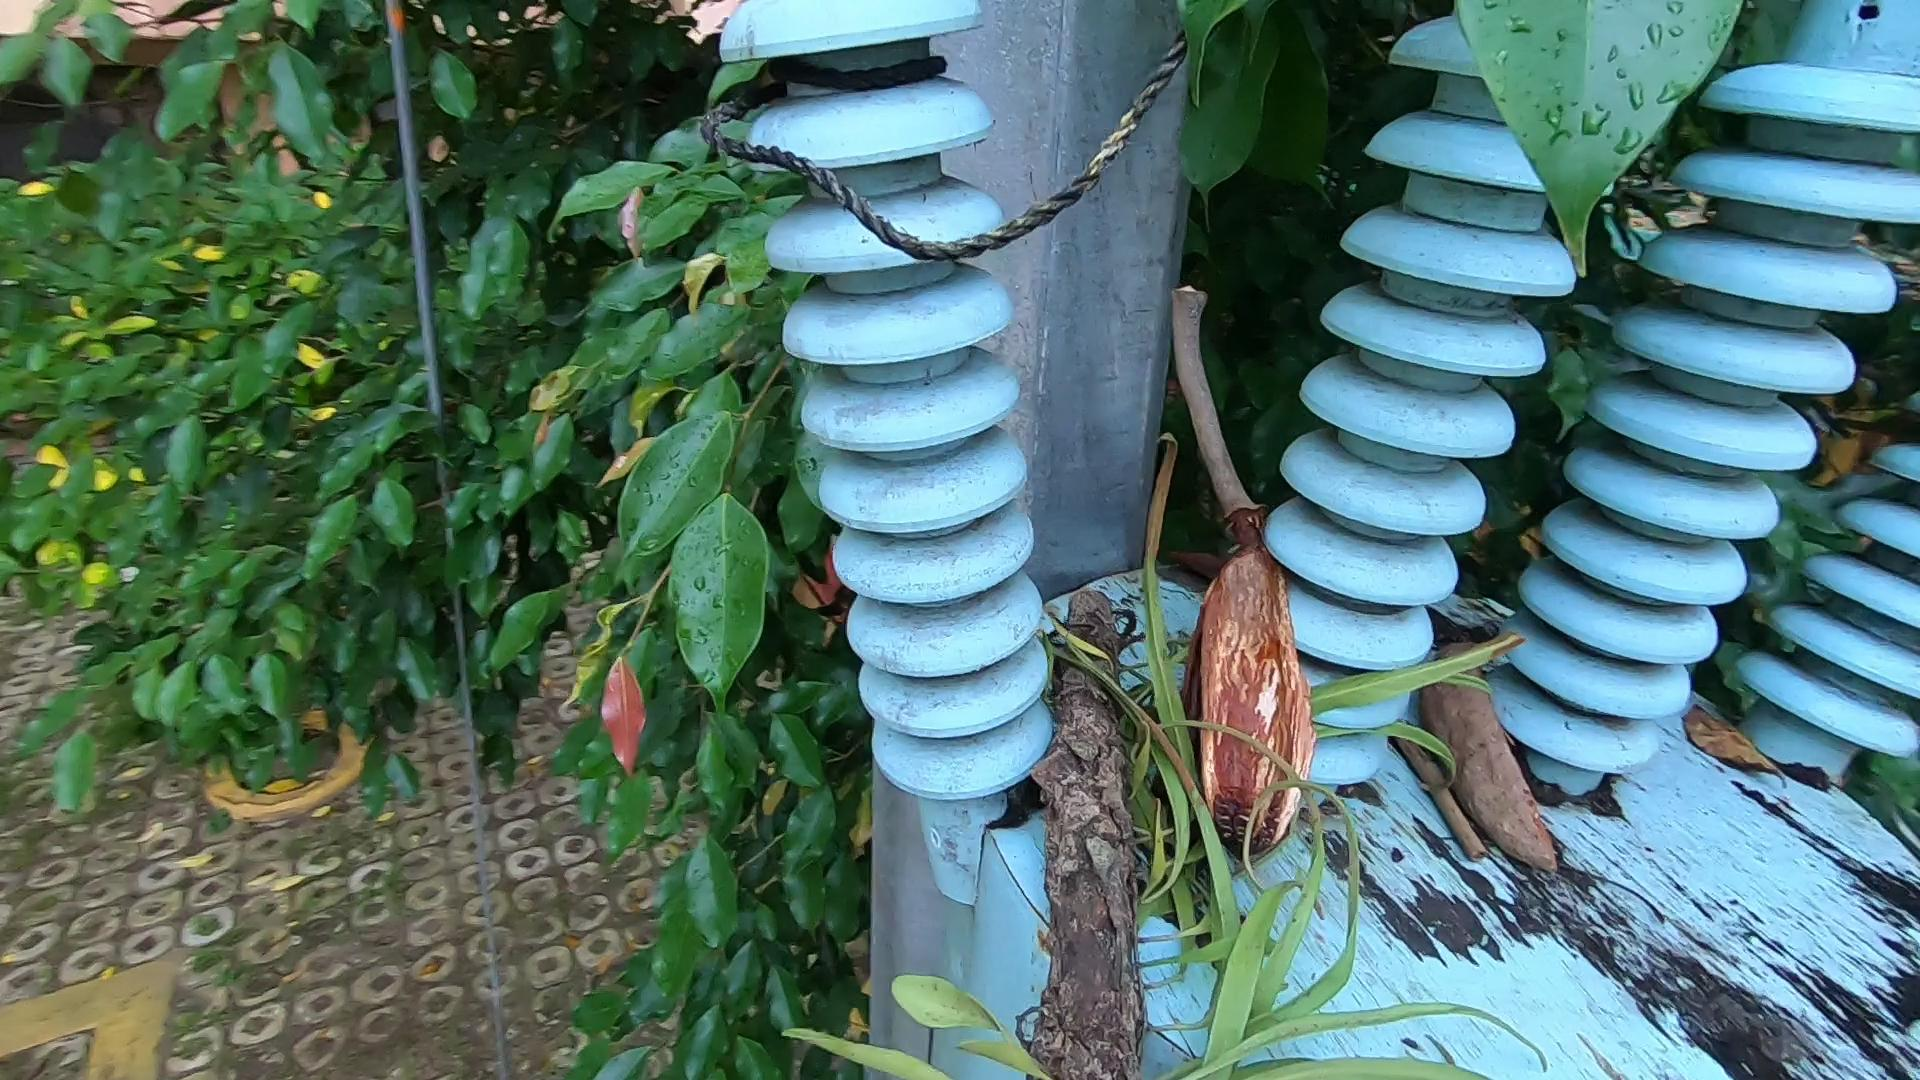branch with leaves: (928, 409, 1578, 1080)
leaf: (1687, 698, 1782, 785)
mahogany fruit: (1204, 480, 1341, 849), (1425, 593, 1547, 899)
tree branch: (1154, 262, 1278, 520), (1378, 721, 1499, 861)
